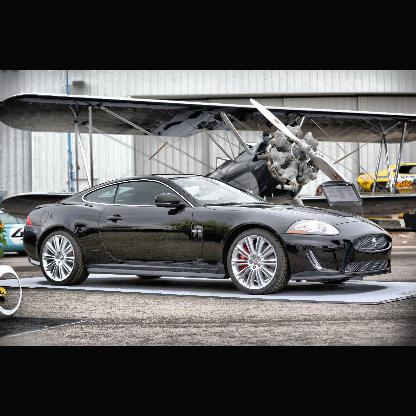Jaguar XK XKR 2012: (25, 176, 394, 295)
